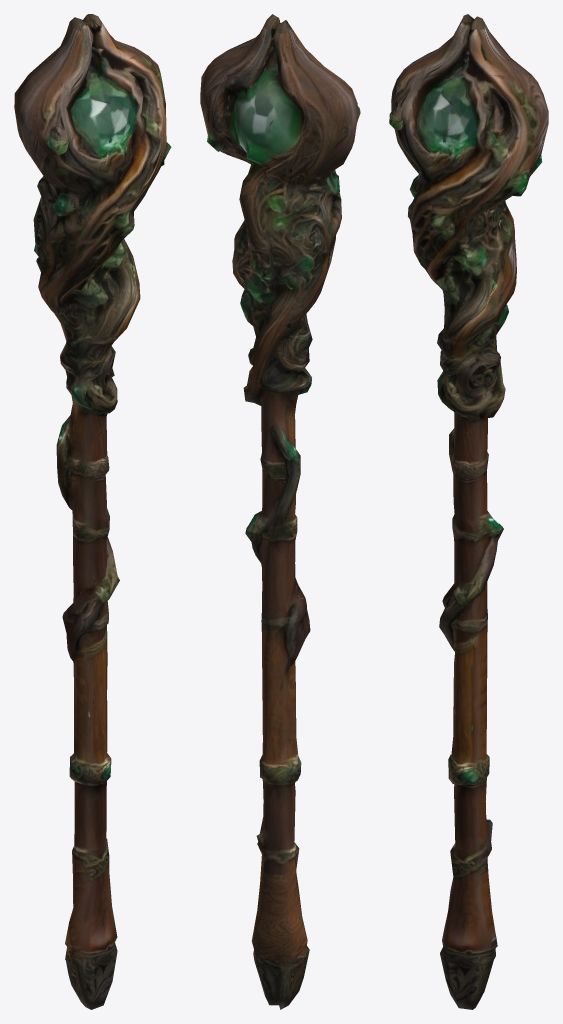
File: 1015_staff.glb
3 renders of one model, left to right at view 1: azimuth 30°, elevation 25°; view 2: azimuth 150°, elevation 25°; view 3: azimuth 330°, elevation 25°, orthographic.
Visible parts, largest first — view 1: Model; view 2: Model; view 3: Model.
Part boxes in pixels (<box>): Model: <box>14,14,171,1009</box>; Model: <box>200,14,360,1009</box>; Model: <box>389,14,548,1009</box>.
Size of the model in its own units: 0.1538 by 1 by 0.1283.
Materials: 1 (1 with a texture image).
